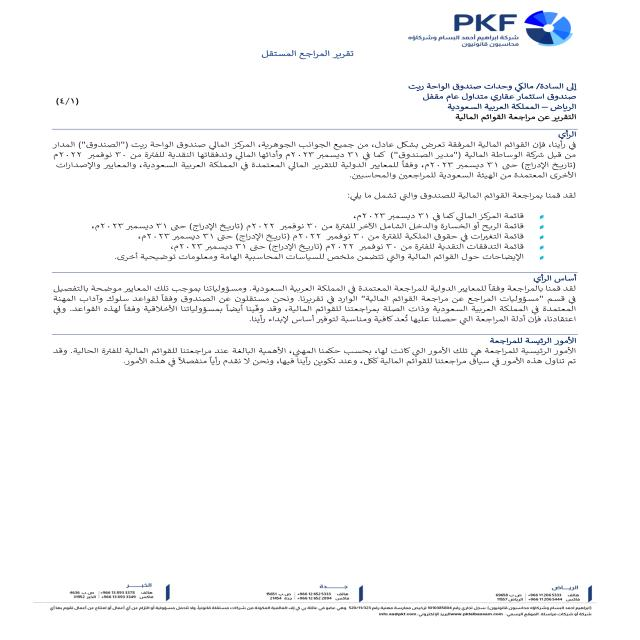auditor_report: (238, 43, 369, 67)
